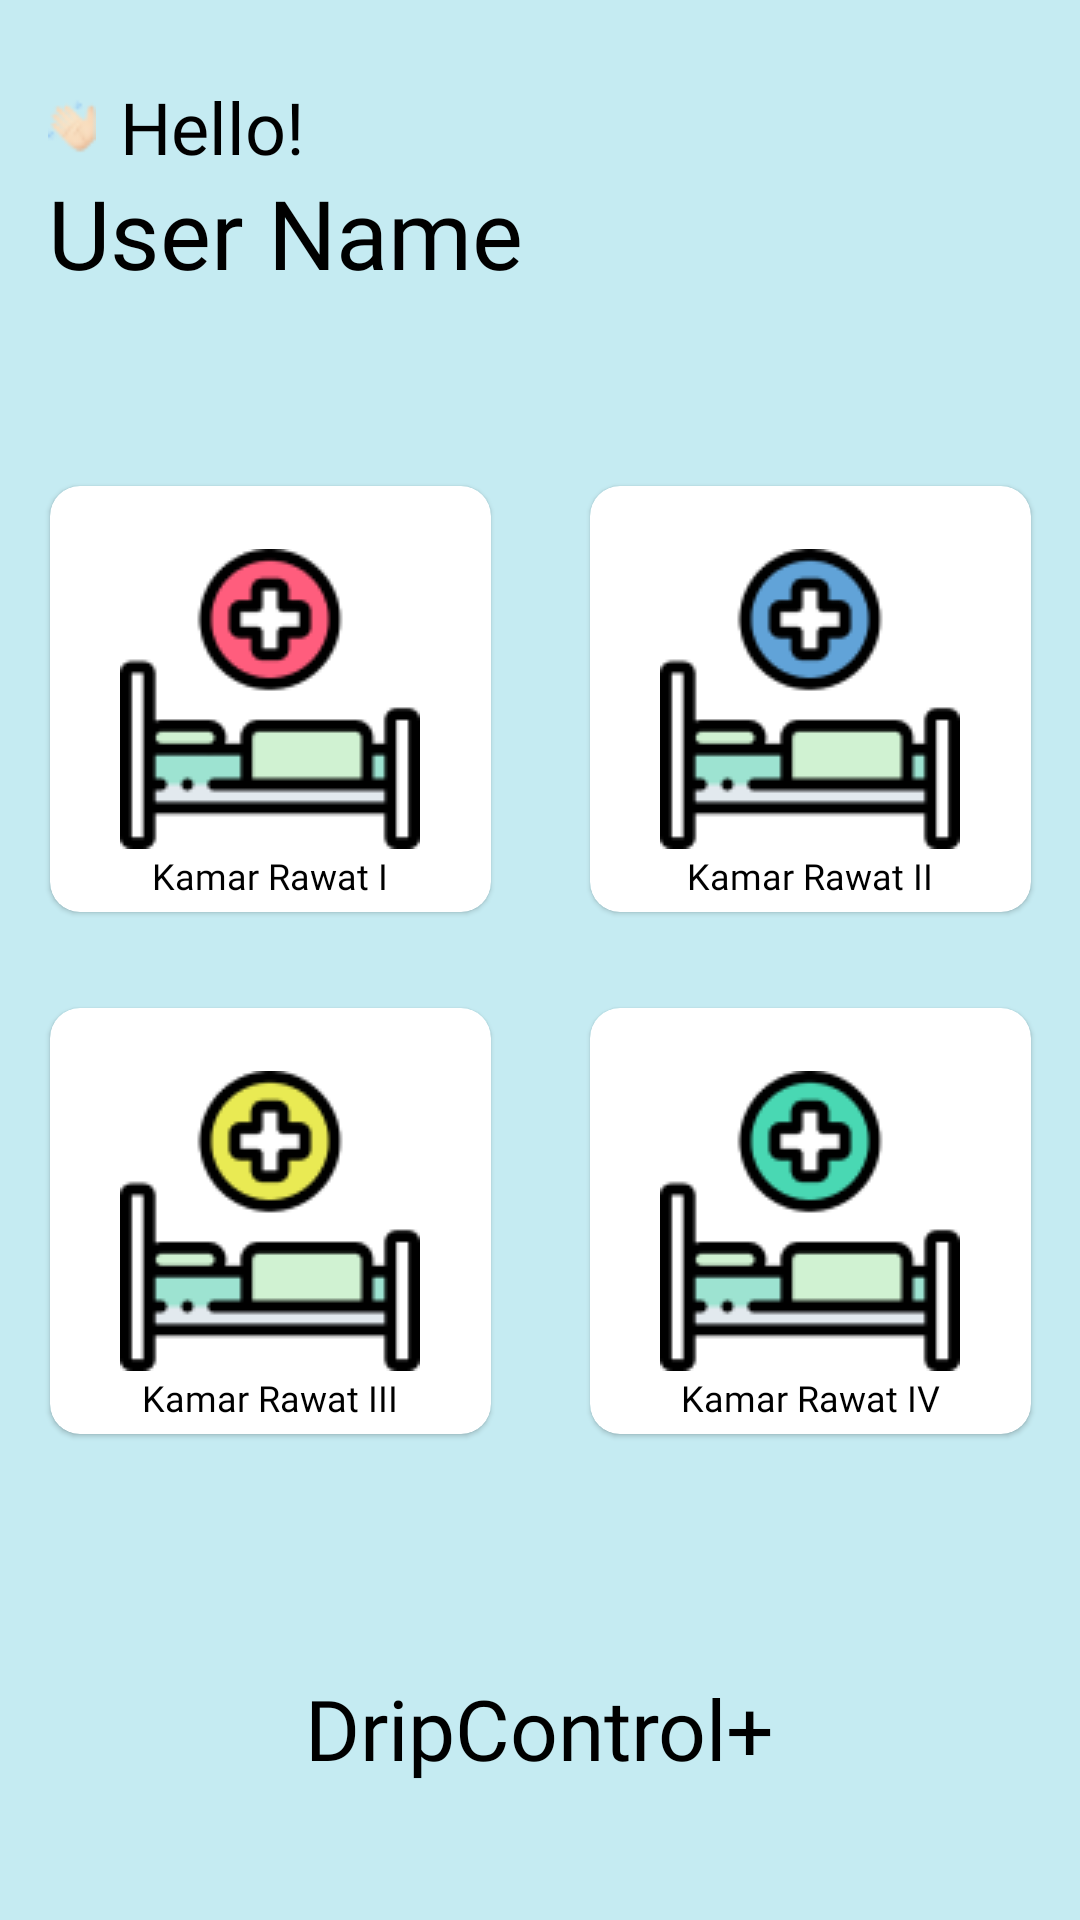

Screen size 1080 x 1920. Icon name, then its center in pixels as point (x, y):
bed: point (270, 699), point (810, 699), point (270, 1221), point (810, 1221)
handsay: point (72, 128)
